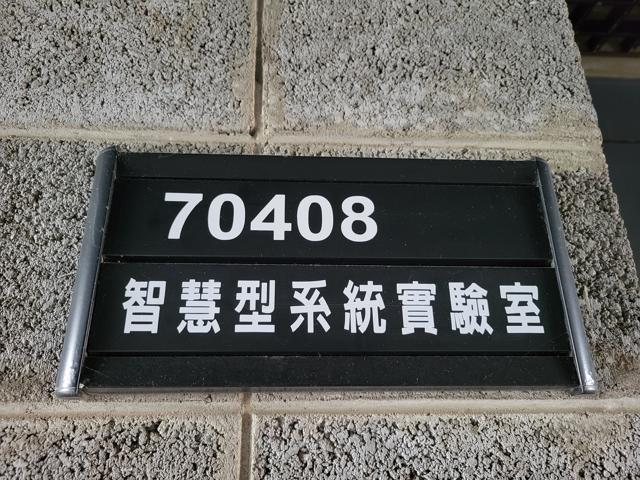doorplate: (46, 139, 610, 405)
